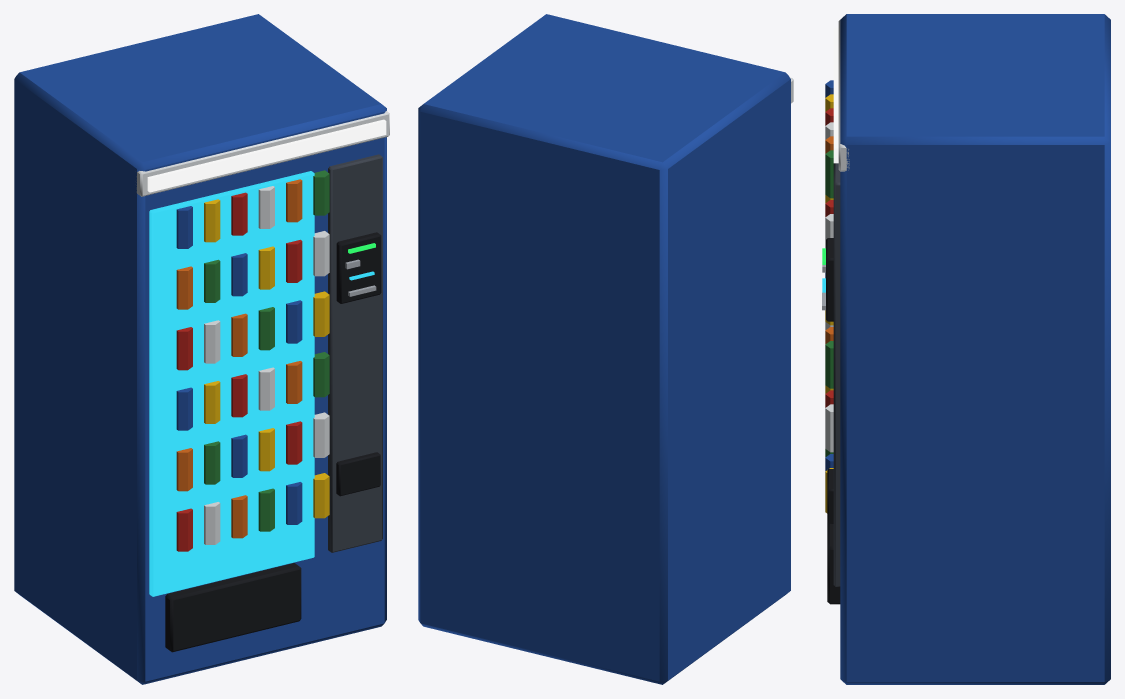
The model's file is vending_drink_machine.glb.
The picture shows the model from 3 angles, left to right: view 1: azimuth 30°, elevation 25°; view 2: azimuth 150°, elevation 25°; view 3: azimuth 270°, elevation 25°; orthographic projection. The views are drawn at different scales.
Parts seen in each view (by area): view 1: vending_drink_machine; view 2: vending_drink_machine; view 3: vending_drink_machine.
Part boxes in pixels (<box>): vending_drink_machine: <box>14,14,389,684</box>; vending_drink_machine: <box>418,14,793,684</box>; vending_drink_machine: <box>822,14,1110,684</box>.
Bounding box in the file's own units: 0.95 × 1.9 × 0.907.
